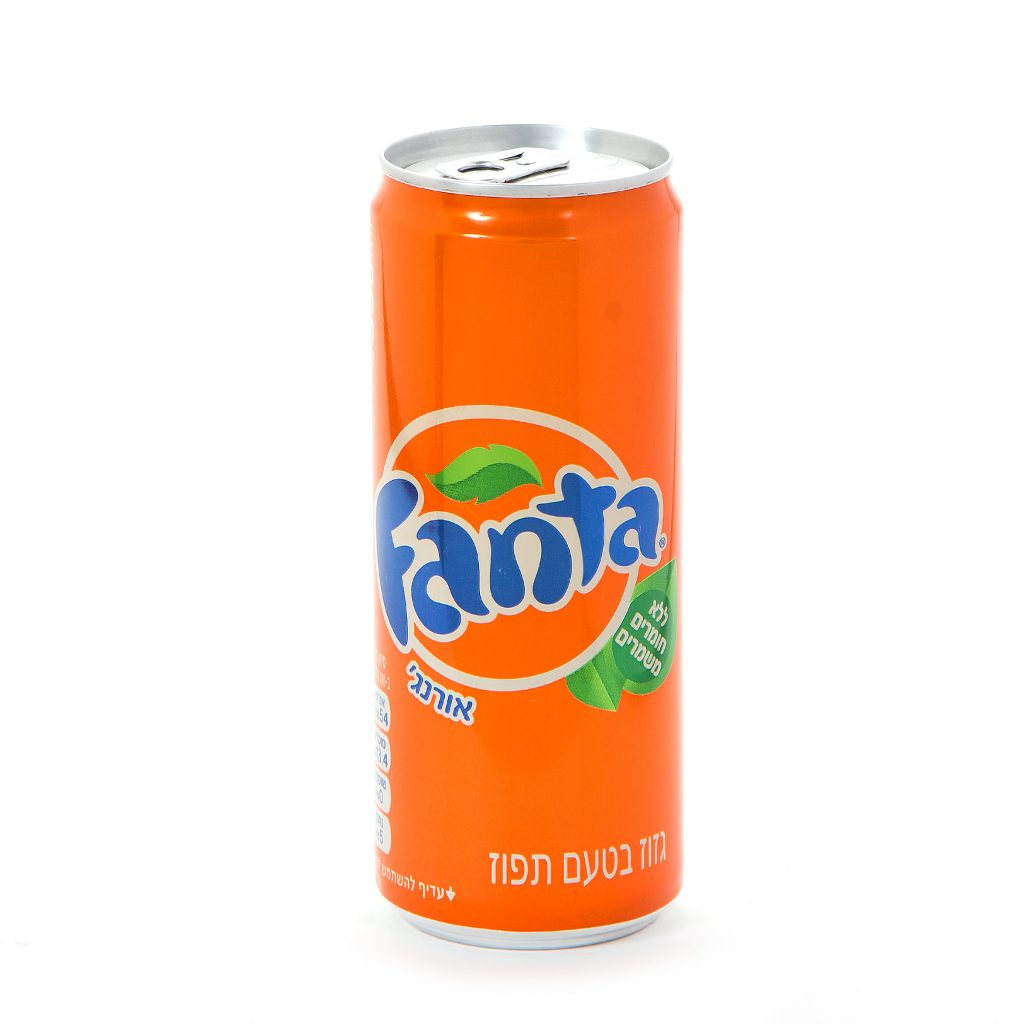fanta_can: (367, 122, 689, 950)
